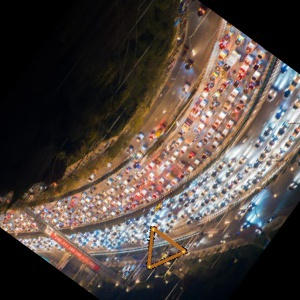triangle: (143, 224, 189, 272)
